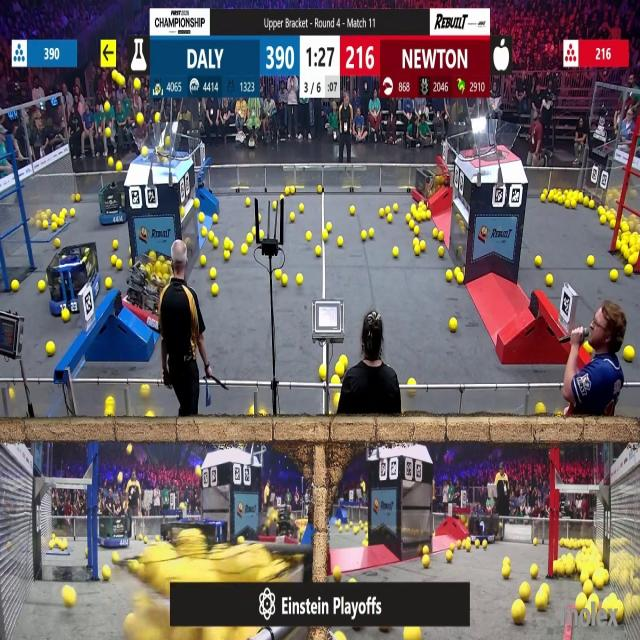ball_airborne: (116, 75, 124, 86), (137, 112, 144, 124), (134, 78, 141, 90), (118, 159, 124, 171), (141, 146, 148, 156), (165, 138, 172, 147), (104, 103, 110, 113), (108, 159, 114, 169), (127, 446, 133, 456), (117, 472, 123, 482), (154, 112, 159, 123), (106, 129, 111, 139), (112, 71, 116, 82)
ball_ground: (513, 601, 526, 624), (64, 588, 76, 608), (520, 584, 530, 602), (536, 593, 546, 611), (625, 346, 635, 362), (576, 594, 585, 610), (565, 564, 575, 578), (141, 384, 150, 399), (584, 582, 594, 595), (130, 562, 140, 575), (617, 606, 625, 622), (46, 342, 54, 357), (334, 566, 342, 581), (337, 362, 346, 375), (318, 364, 326, 378), (102, 566, 110, 580), (106, 404, 114, 418), (450, 318, 458, 331), (501, 566, 509, 578), (62, 310, 70, 322), (536, 404, 544, 416), (531, 565, 538, 578), (626, 266, 634, 277), (456, 274, 464, 285), (585, 344, 593, 355), (631, 253, 639, 264), (610, 270, 617, 282), (105, 278, 112, 290), (210, 268, 217, 280), (545, 274, 552, 286), (422, 556, 429, 568), (295, 274, 302, 286), (584, 199, 592, 209), (553, 562, 559, 575), (588, 255, 595, 266), (212, 284, 219, 295), (11, 281, 18, 292), (38, 281, 45, 292), (281, 275, 288, 286), (330, 376, 339, 384), (447, 272, 454, 282), (115, 262, 122, 272), (564, 200, 571, 210), (392, 247, 398, 258), (201, 255, 207, 266), (447, 552, 453, 563), (223, 239, 229, 250), (616, 240, 622, 251), (146, 412, 154, 420), (307, 232, 313, 242), (316, 246, 322, 256), (534, 256, 540, 266), (242, 244, 248, 254), (258, 232, 264, 242), (367, 230, 373, 240), (322, 232, 328, 242), (420, 241, 426, 251), (247, 235, 253, 245), (112, 553, 118, 563), (223, 250, 229, 260), (212, 214, 218, 224), (8, 389, 14, 399), (341, 354, 347, 364), (409, 378, 416, 386), (413, 239, 420, 247), (502, 557, 509, 565), (238, 536, 245, 544), (276, 271, 282, 280), (298, 204, 304, 213), (212, 239, 218, 248), (392, 204, 398, 213), (350, 207, 356, 216), (110, 255, 116, 264), (412, 205, 418, 214), (609, 219, 615, 228), (570, 200, 576, 209), (546, 192, 552, 201), (62, 209, 68, 218), (339, 237, 344, 247), (440, 248, 445, 258), (423, 544, 428, 554), (361, 232, 366, 242), (432, 230, 437, 240), (440, 232, 445, 242), (316, 185, 323, 192), (380, 209, 386, 217), (600, 216, 606, 224), (540, 193, 546, 201), (70, 210, 76, 218), (202, 230, 208, 238), (208, 232, 214, 240), (42, 220, 48, 228), (193, 200, 199, 208), (362, 539, 368, 547), (112, 241, 117, 250), (415, 246, 420, 255), (200, 213, 205, 222), (326, 222, 331, 231), (415, 225, 420, 234), (249, 409, 254, 418), (417, 213, 422, 222), (385, 207, 391, 214), (56, 240, 61, 248), (426, 210, 430, 220), (410, 221, 415, 229), (407, 214, 412, 222), (51, 222, 56, 230), (290, 212, 294, 221), (350, 576, 356, 582), (450, 542, 455, 549), (388, 214, 392, 222), (244, 200, 248, 208), (76, 192, 80, 200), (273, 202, 277, 210), (84, 551, 88, 559), (257, 214, 261, 222), (484, 540, 488, 548), (475, 540, 479, 548), (532, 538, 537, 544), (252, 226, 256, 233), (280, 193, 284, 200), (144, 536, 148, 543), (456, 268, 460, 275), (466, 542, 470, 549), (354, 528, 358, 534), (130, 258, 133, 266), (155, 535, 159, 541), (139, 534, 143, 540)
goal: (464, 121, 521, 160), (122, 127, 187, 160)
robot_blue: (47, 244, 102, 317), (99, 182, 128, 226), (98, 518, 130, 548), (470, 514, 502, 544)
robot_red: (124, 252, 175, 325), (411, 163, 451, 205), (264, 508, 302, 546)
